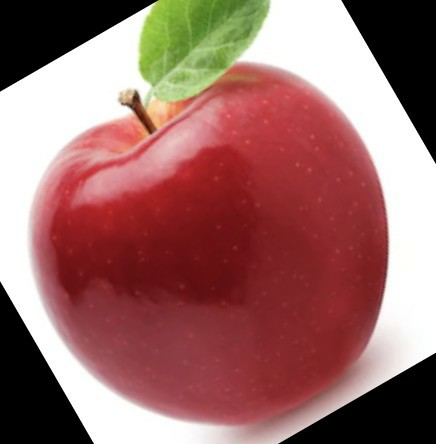fresh_apple: (29, 62, 396, 426)
